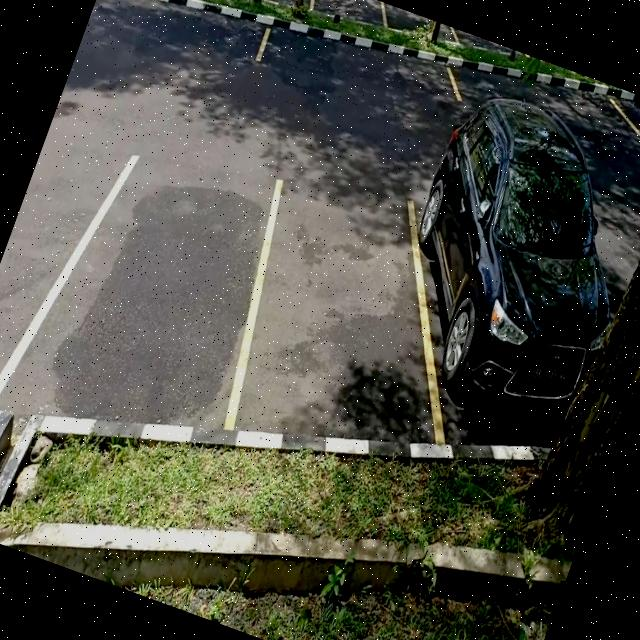empty: (21, 136, 306, 457), (197, 155, 466, 463)
occupied: (357, 123, 640, 477)
